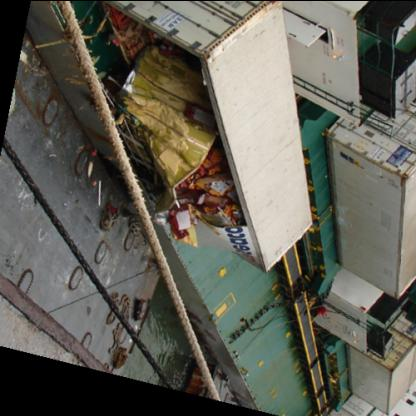Damage: (93, 27, 263, 266)
